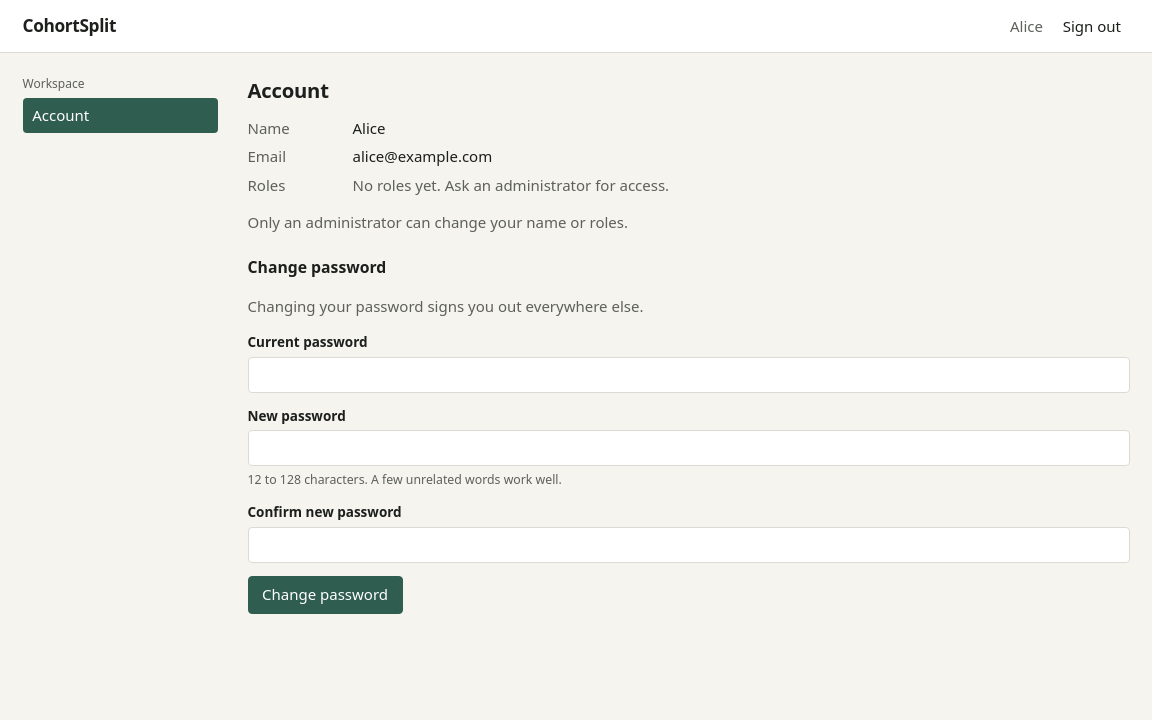
Dashboard tabs follow effective permissions (AC-A23, AC-A24) › signs out with the CSRF header and returns to sign-in
What coordinates should you click on to do the following:
click the button "Sign out"
I would click on:
 (1092, 26)
Its box is [1054, 9, 1130, 42].
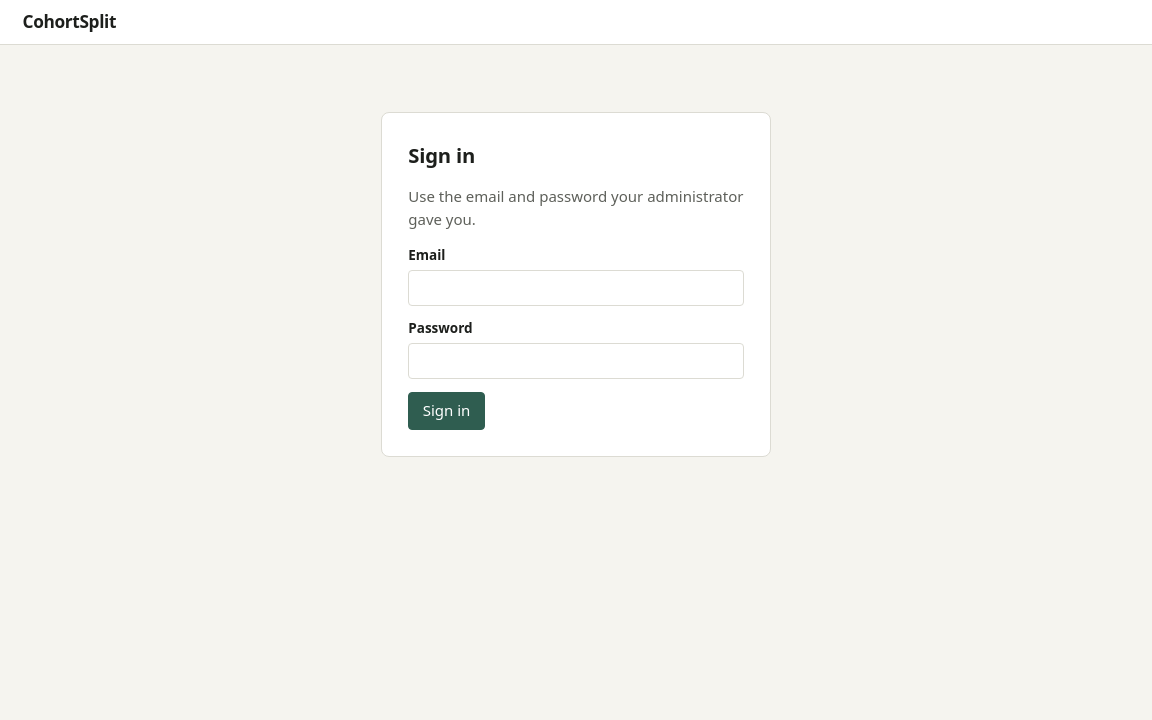
expect the heading "Sign in" is shown: met, box [408, 141, 475, 169]
